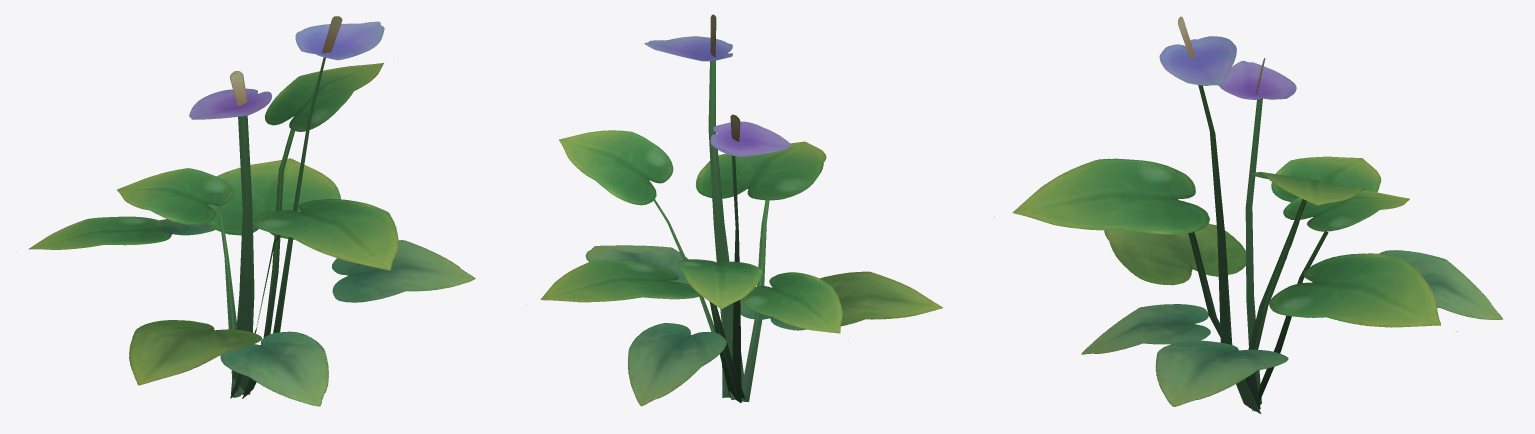
File: pref_sm_garden_flower03_lv3.fbx
The picture shows the model from 3 angles, left to right: view 1: azimuth 30°, elevation 25°; view 2: azimuth 150°, elevation 25°; view 3: azimuth 270°, elevation 25°; orthographic projection. The views are drawn at different scales.
Visible parts, largest first — view 1: pref_sm_garden_flower03_lv3; view 2: pref_sm_garden_flower03_lv3; view 3: pref_sm_garden_flower03_lv3.
Boxes of the visible parts, x1=… form: pref_sm_garden_flower03_lv3: x1=28, y1=16, x2=475, y2=406; pref_sm_garden_flower03_lv3: x1=526, y1=14, x2=942, y2=406; pref_sm_garden_flower03_lv3: x1=994, y1=16, x2=1502, y2=413.
Bounding box in the file's own units: 1.77 × 1.67 × 1.89.
Materials: 1 (1 with a texture image).
